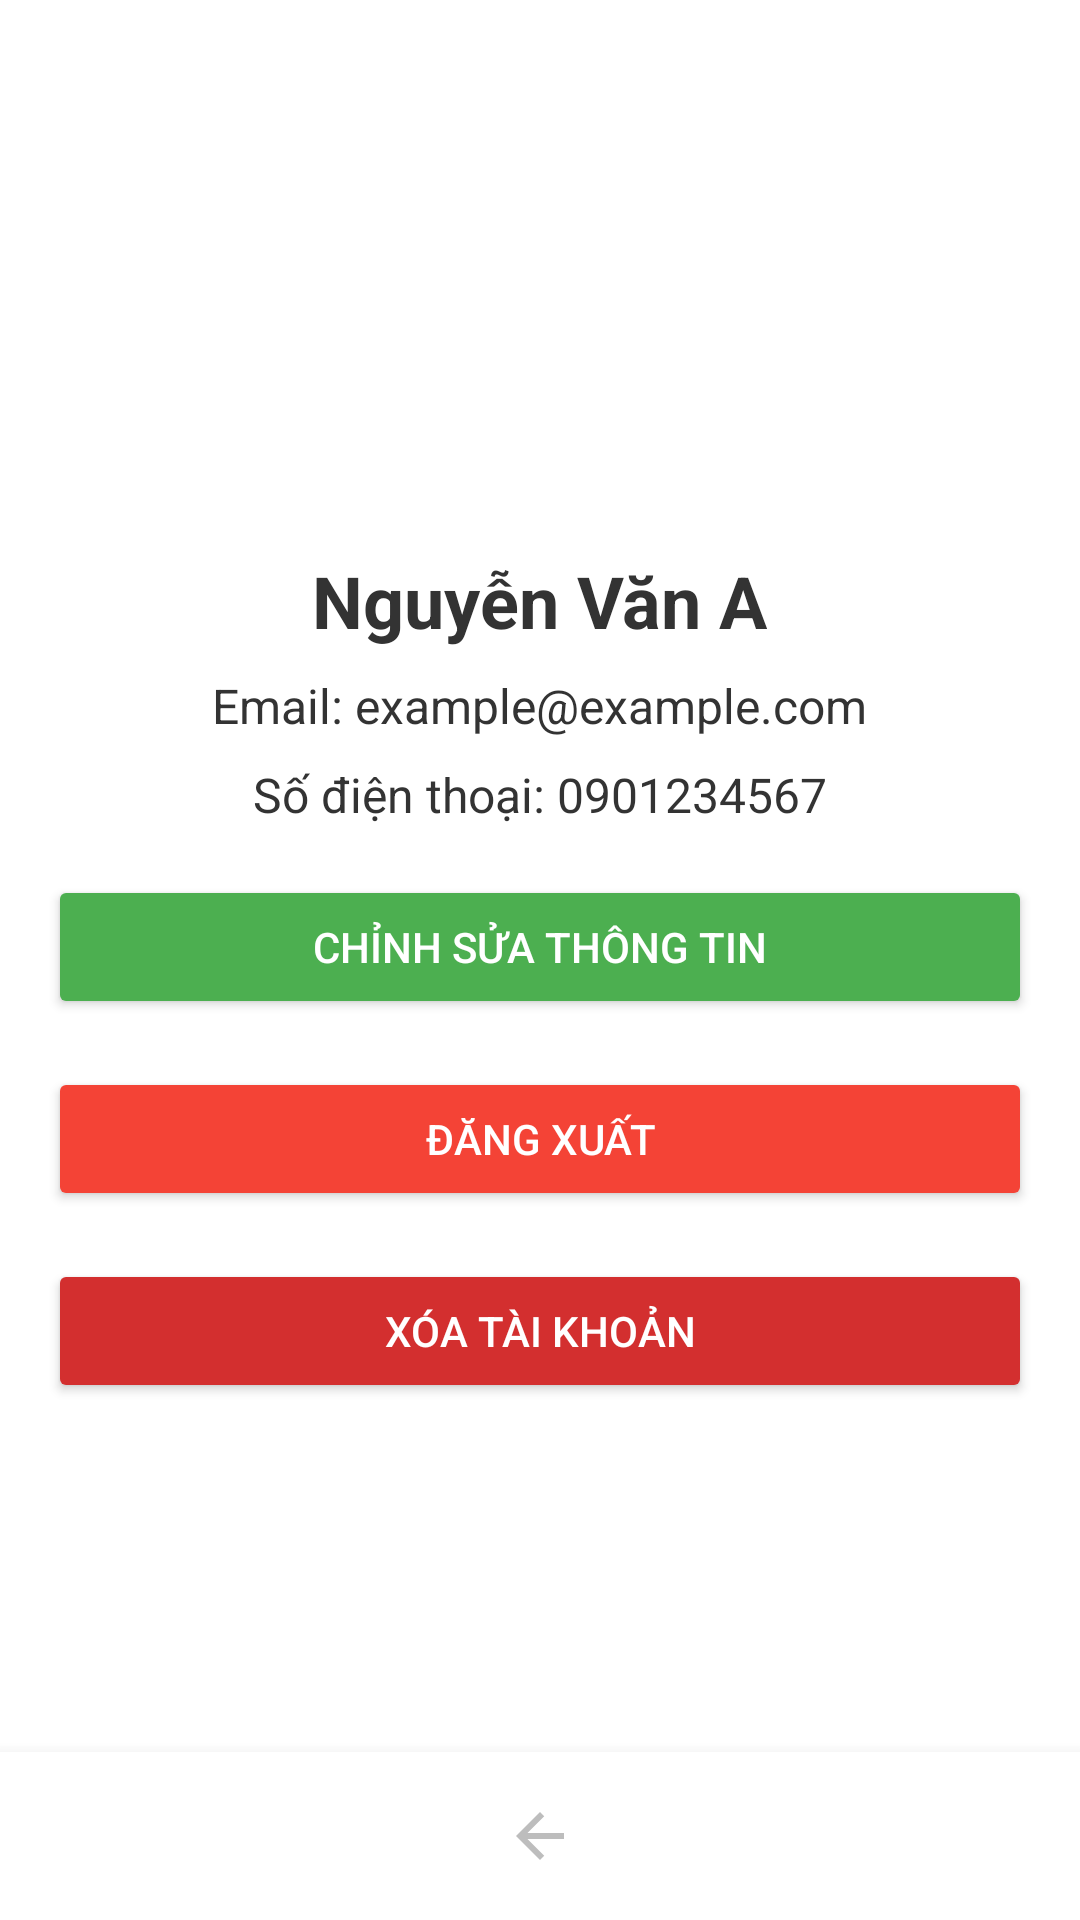

Screen size 1080px×1920px. Icon name, then its box in pixels as rect(x1, y1, x2, y2):
Quay lại: rect(516, 1812, 564, 1860)
